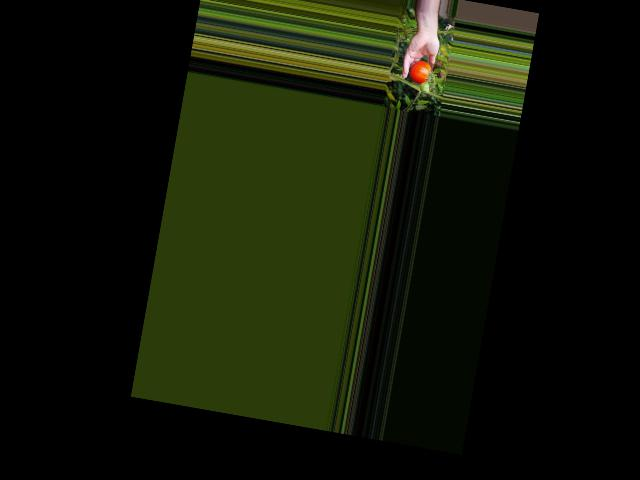tomato: (408, 58, 432, 85)
